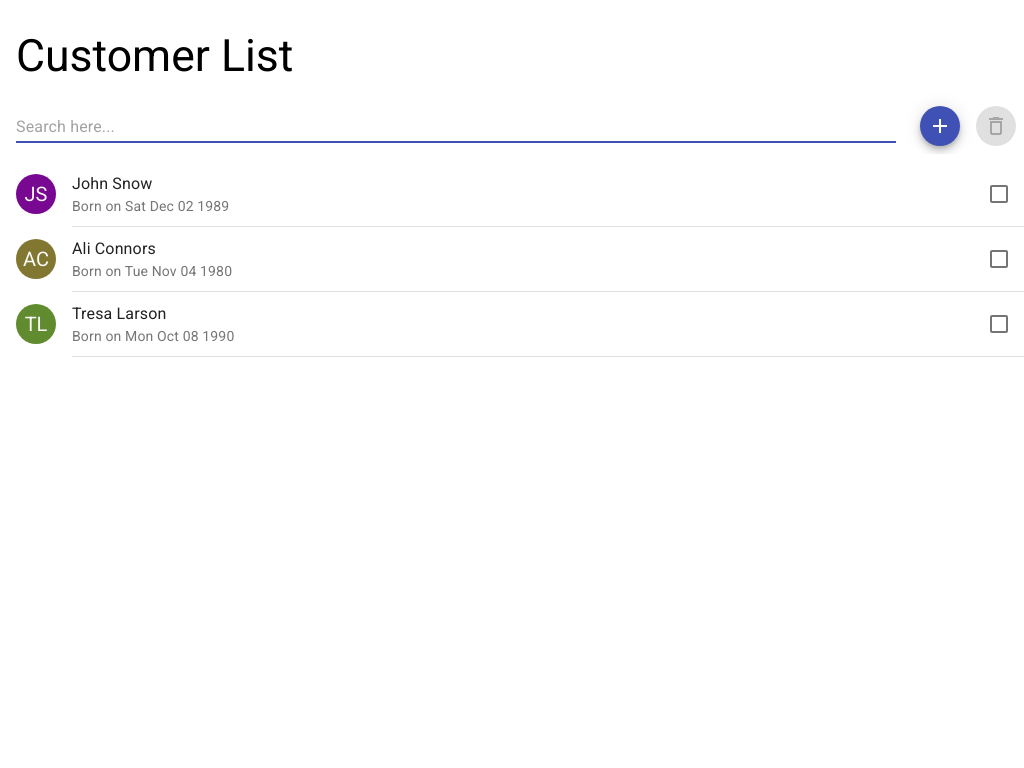
Test: CustomerList › renders dialog with customer info upon clicking on a specific customer
Click the text "John Snow". click: click(90, 184)
box: [72, 174, 152, 193]
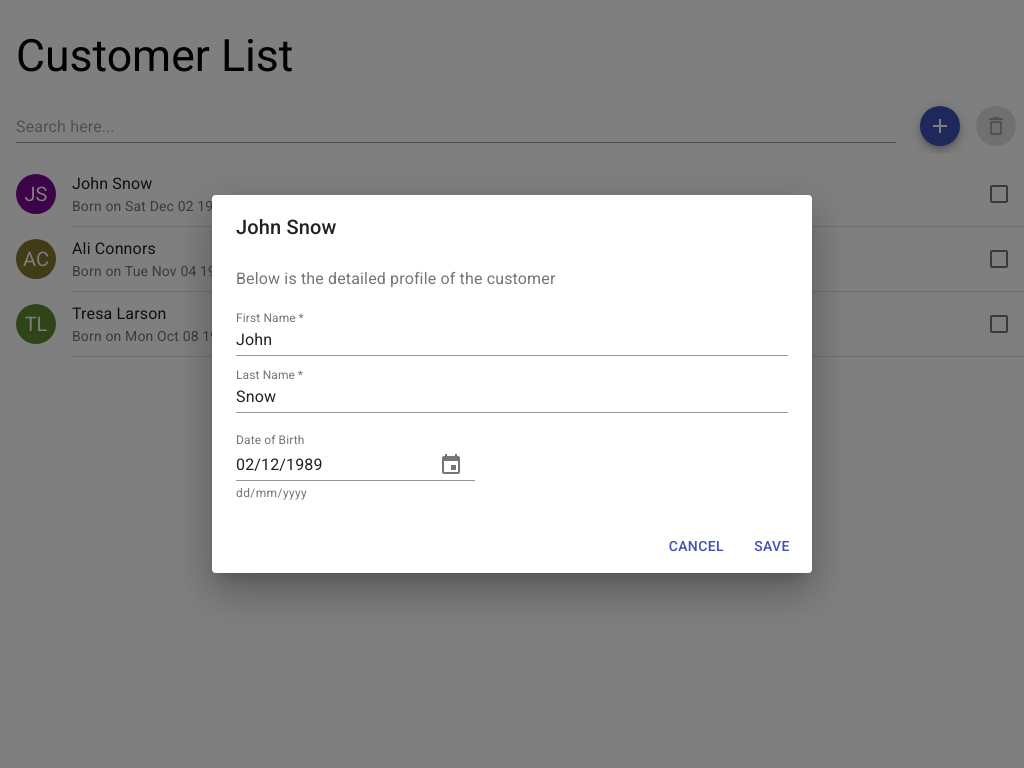
Now the element with test id "customerDetailDialog" is shown
Now the field with id "firstName" holds "John", box [236, 327, 788, 356]
Now the field with id "lastName" holds "Snow", box [236, 384, 788, 413]
